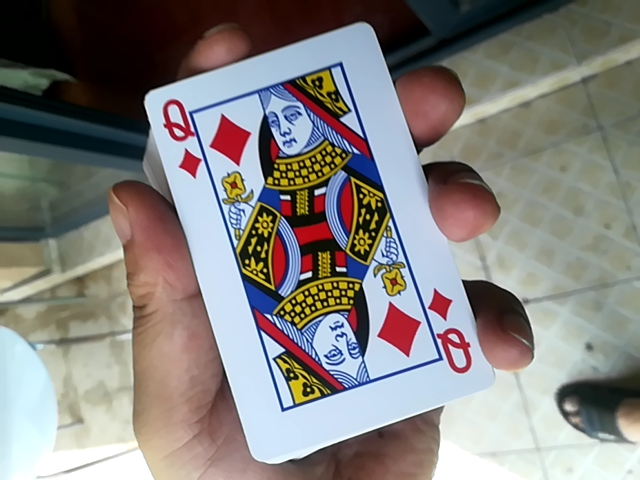fk q: (134, 28, 485, 472)
